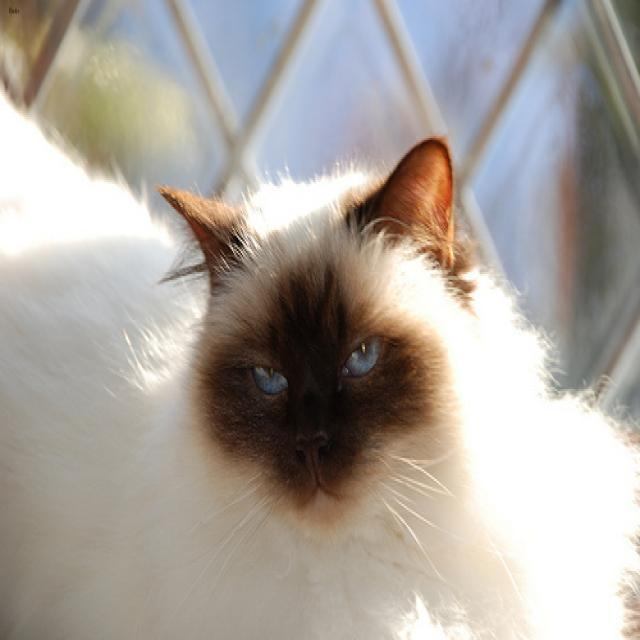Birman: (159, 134, 452, 535)
